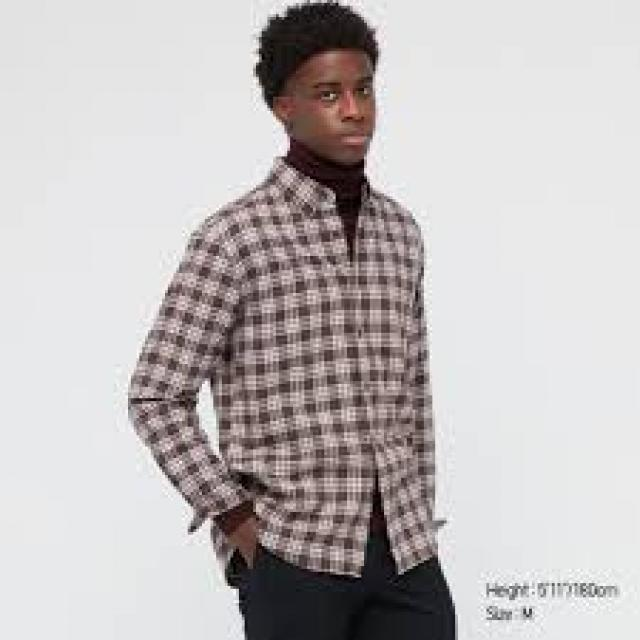plaid: (128, 169, 456, 573)
